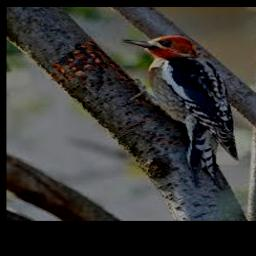Woodpecker: (122, 35, 238, 189)
